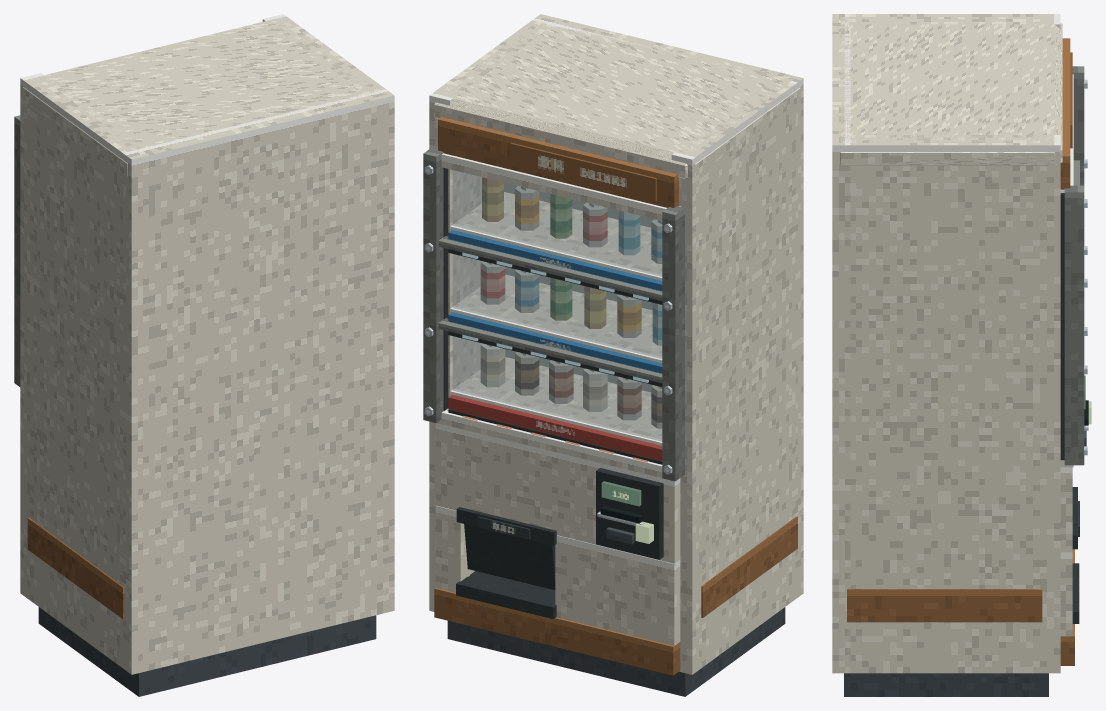
Rendered from f_vending_reinforced_networked.glb.
The picture shows the model from 3 angles, left to right: view 1: azimuth 30°, elevation 25°; view 2: azimuth 150°, elevation 25°; view 3: azimuth 270°, elevation 25°; orthographic projection. The views are drawn at different scales.
Parts seen in each view (by area): view 1: block_enamel-back, block_enamel-side (×2), block_rounded-enamel-cap, block_recessed-kickplate, block_painted-side-stripe, block_bolted-display-stile; view 2: block_enamel-side (×2), block_sample-glazing (×3), block_rounded-enamel-cap, block_lower-service-panel, block_bolted-display-stile (×2), block_right-lower-return, block_painted-bottom-band, block_recessed-kickplate, block_enamel-back, block_sample-shelf-1, block_sample-shelf-0, block_sample-shelf-2 (+37 smaller); view 3: block_enamel-side (×2), block_rounded-enamel-cap, block_enamel-back, block_bolted-display-stile (×2), block_painted-side-stripe, block_recessed-kickplate, block_header-colour-band, block_display-rebate, block_lower-service-panel, block_left-lower-return, block_painted-bottom-band, block_retrieval-frame-bottom.
Part boxes in pixels (box(x1,y1,x2,y2)): block_enamel-back: box(123, 89, 394, 674); block_enamel-side (×2): box(20, 14, 385, 667); block_rounded-enamel-cap: box(22, 17, 382, 176); block_recessed-kickplate: box(38, 607, 376, 696); block_painted-side-stripe: box(27, 517, 124, 619); block_bolted-display-stile: box(14, 115, 20, 386); block_enamel-side (×2): box(429, 20, 795, 674); block_sample-glazing (×3): box(452, 170, 662, 441); block_rounded-enamel-cap: box(434, 20, 800, 178); block_lower-service-panel: box(435, 423, 680, 563); block_bolted-display-stile (×2): box(423, 146, 684, 481); block_right-lower-return: box(555, 535, 680, 645); block_painted-bottom-band: box(434, 588, 680, 675); block_recessed-kickplate: box(447, 607, 785, 696); block_enamel-back: box(533, 14, 803, 598); block_sample-shelf-1: box(450, 274, 662, 363); block_sample-shelf-0: box(450, 192, 662, 280); block_sample-shelf-2: box(450, 357, 662, 445); block_enamel-side (×2): box(848, 14, 1060, 673); block_rounded-enamel-cap: box(840, 17, 1062, 165); block_enamel-back: box(832, 14, 850, 673); block_bolted-display-stile (×2): box(1064, 66, 1084, 465); block_painted-side-stripe: box(847, 589, 1042, 622); block_recessed-kickplate: box(844, 673, 1048, 696); block_header-colour-band: box(1060, 38, 1070, 189); block_display-rebate: box(1060, 193, 1064, 460); block_lower-service-panel: box(1060, 467, 1072, 552); block_left-lower-return: box(1060, 552, 1072, 636); block_painted-bottom-band: box(1060, 549, 1074, 665); block_retrieval-frame-bottom: box(1072, 563, 1079, 623).
Size of the model in its own units: 0.951 by 1.86 by 0.783.
Materials: 3 (3 with a texture image).
